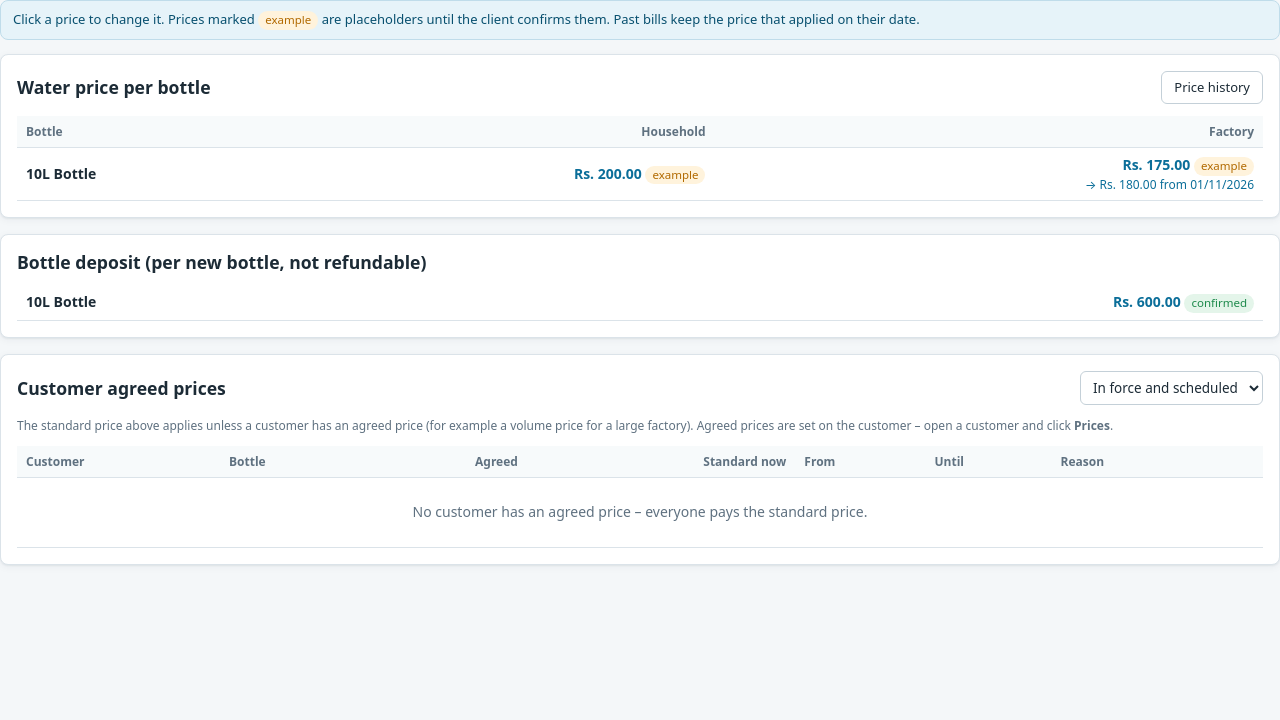
it: PricesTab › clicking a price opens the change pop-up with today's price and tomorrow as the date
Click the button "Rs. 175.00" at [1156, 165], box top-left (1122, 155), bottom-right (1190, 175)
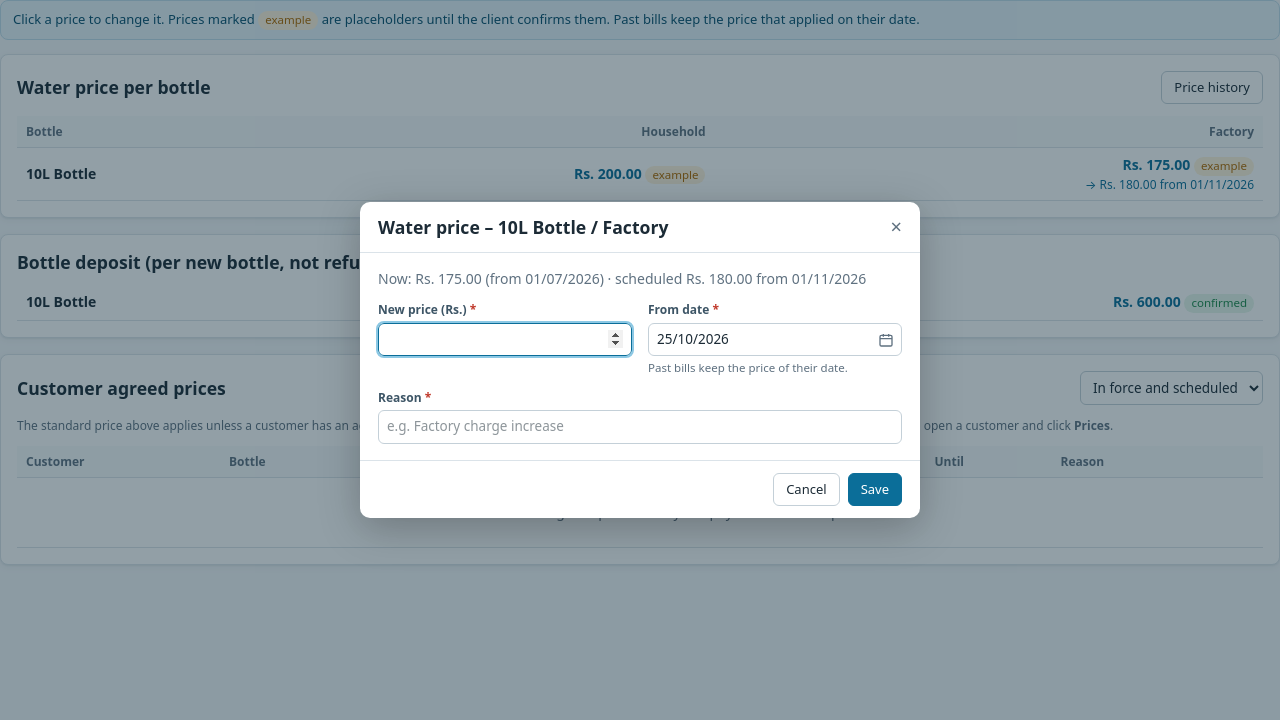
Expected: the text "Now:" reads "Now: Rs. 175.00 (from 01/07/2026) · scheduled Rs. 180.00 from 01/11/2026", top-left (378, 269), bottom-right (902, 289)
Click the button "Save" at [875, 489], box top-left (848, 473), bottom-right (902, 506)
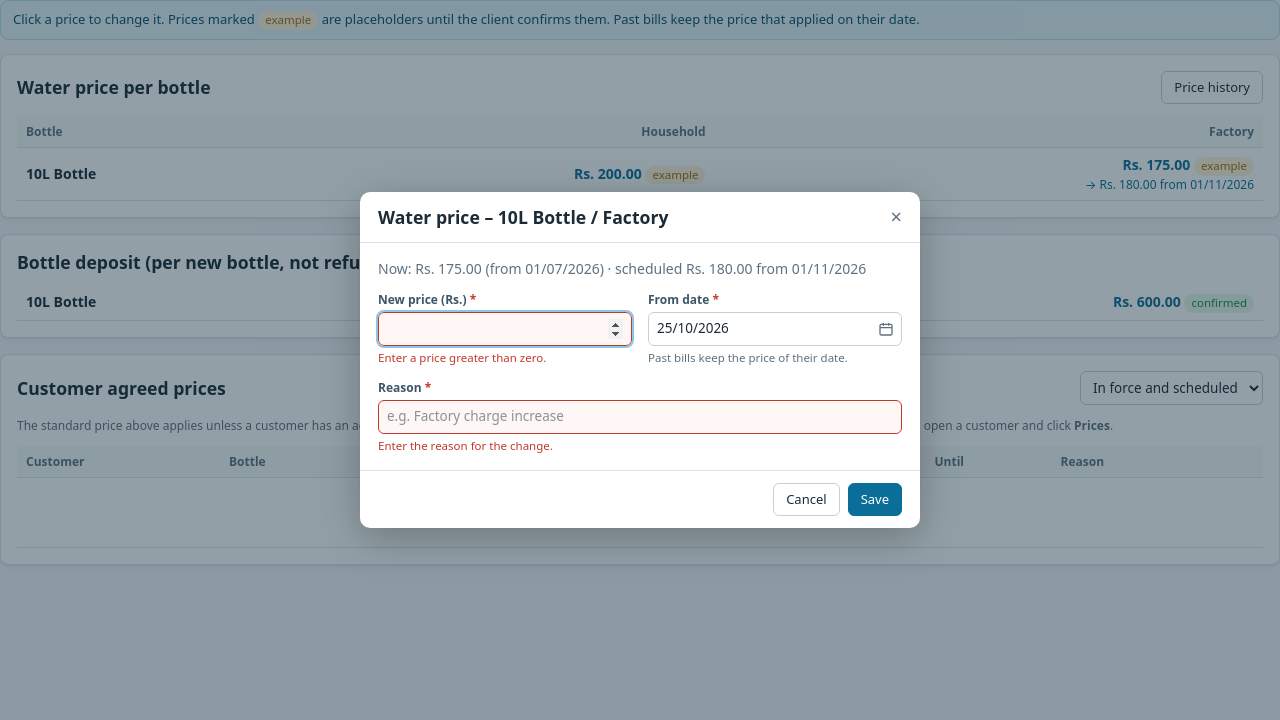
Expected: the text "Enter a price greater than zero." is shown, top-left (378, 350), bottom-right (546, 365)
Expected: the text "Enter the reason for the change." is shown, top-left (378, 438), bottom-right (553, 453)
